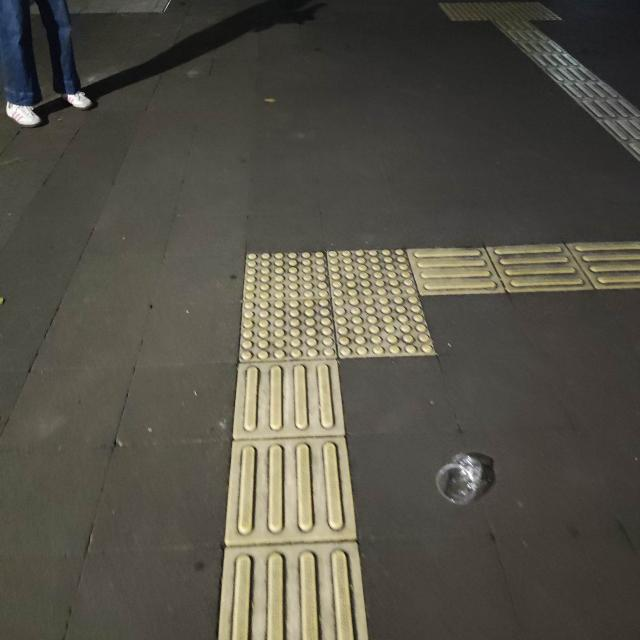kanan: (225, 212, 583, 416)
